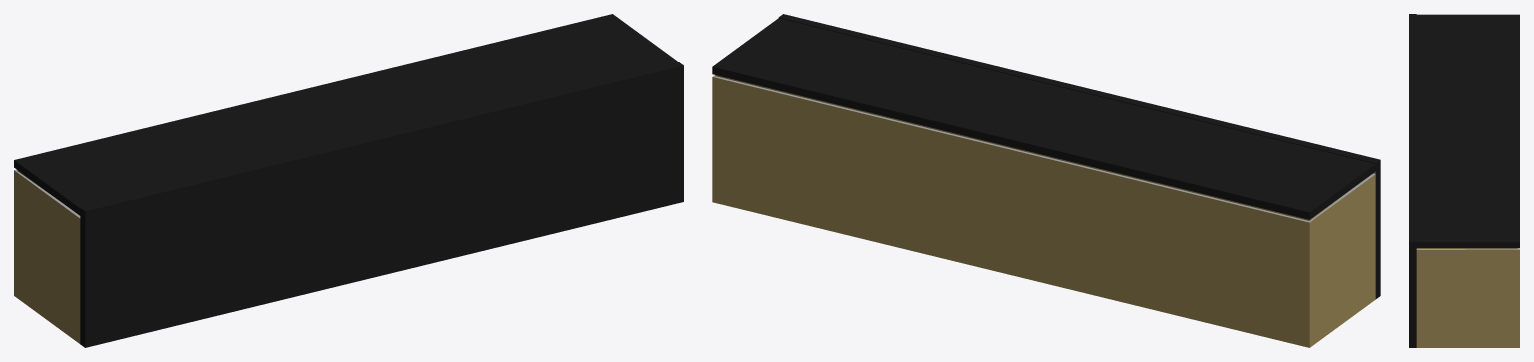
The model's file is Counter.fbx.
The picture shows the model from 3 angles, left to right: view 1: azimuth 30°, elevation 25°; view 2: azimuth 150°, elevation 25°; view 3: azimuth 270°, elevation 25°; orthographic projection. The views are drawn at different scales.
Parts seen in each view (by area): view 1: pCube140; view 2: pCube140; view 3: pCube140.
Boxes of the visible parts, box(x1,y1,x2,y2) form: pCube140: box(14, 14, 683, 347); pCube140: box(712, 14, 1380, 347); pCube140: box(1409, 14, 1519, 347).
Bounding box in the file's own units: 24.41 × 5.32 × 5.03.
